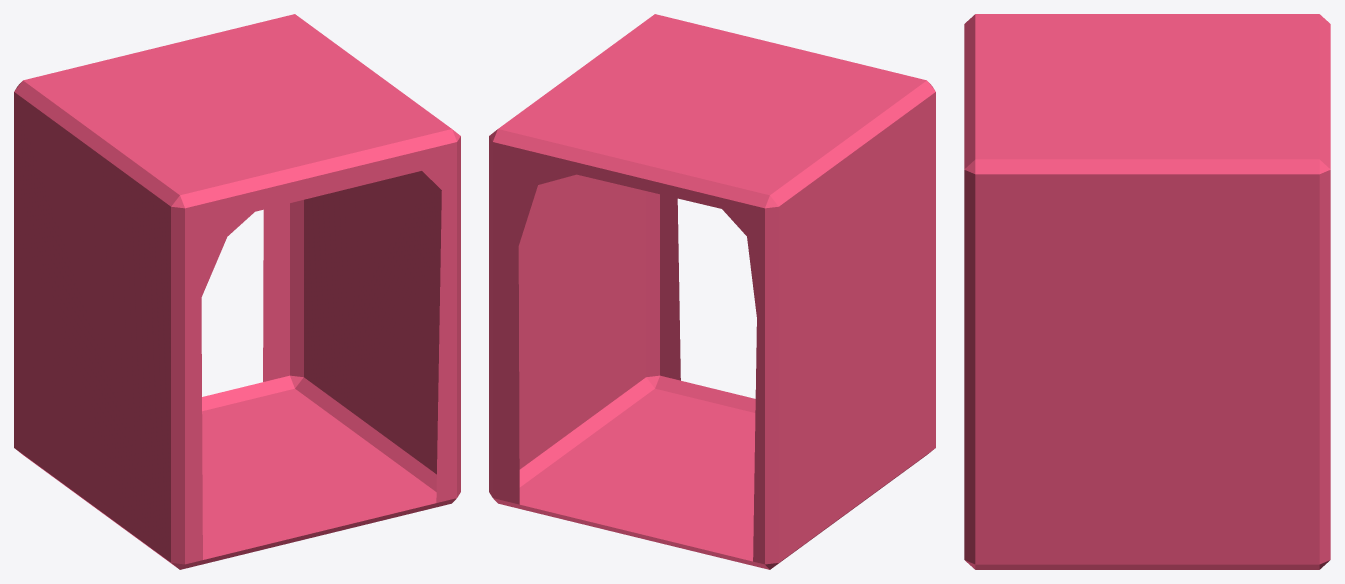
Rendered from SM_house_4.fbx.
The picture shows the model from 3 angles, left to right: view 1: azimuth 30°, elevation 25°; view 2: azimuth 150°, elevation 25°; view 3: azimuth 270°, elevation 25°; orthographic projection. The views are drawn at different scales.
Parts seen in each view (by area): view 1: SM_house_12; view 2: SM_house_12; view 3: SM_house_12.
Boxes of the visible parts, x1,y1,x2,y2 form: SM_house_12: [14, 14, 460, 569]; SM_house_12: [489, 14, 935, 569]; SM_house_12: [964, 14, 1330, 569].
Size of the model in its own units: 1676 by 1676 by 2071.
